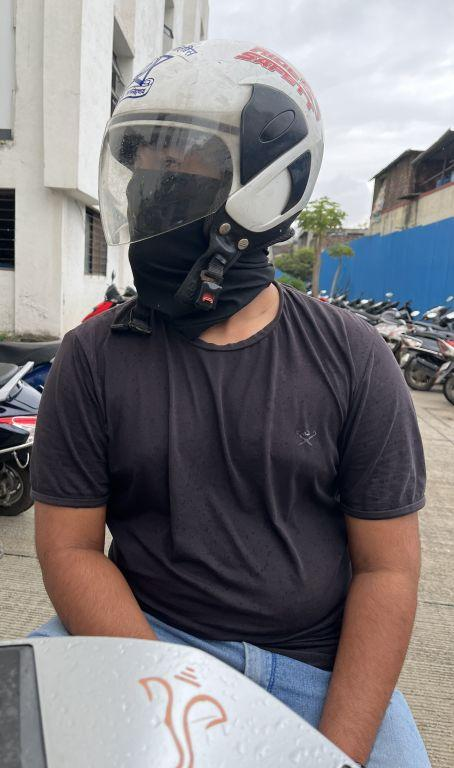helmet: (87, 20, 334, 291)
